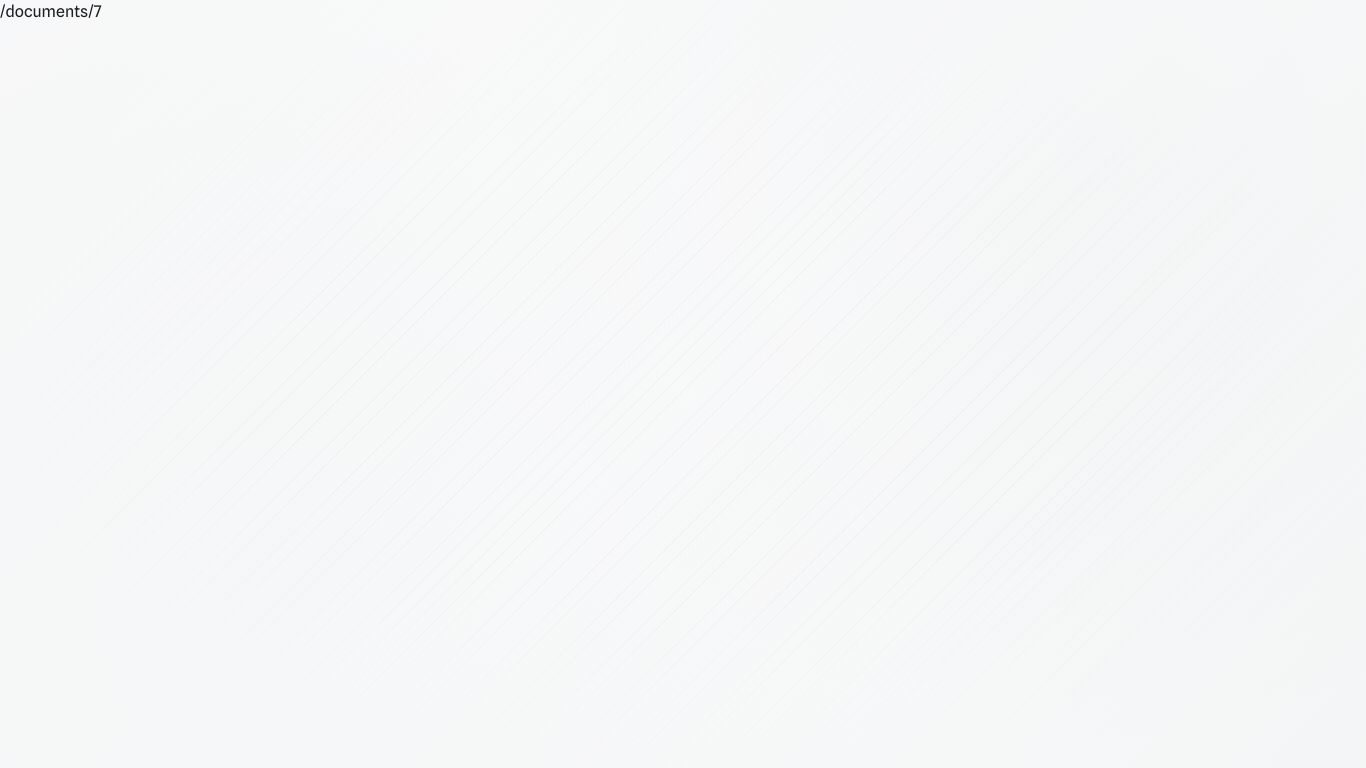
Test: #775 CommandPalette principal publication › does not toast a copy result after principal replacement while the owner stays current
The width and height of the screenshot is (1366, 768).
Step 1. Press k
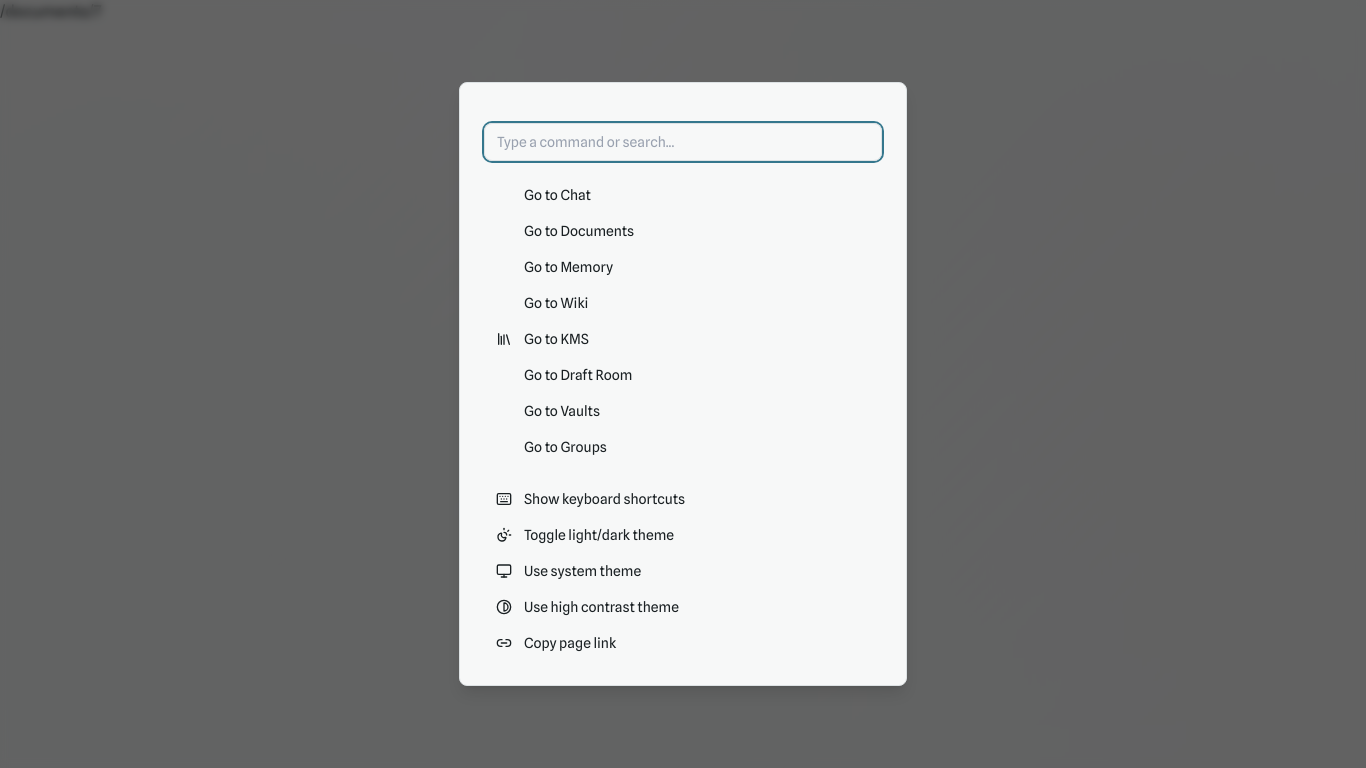
Step 2. Click the button "Copy page link" → (570, 643), box [484,625,882,661]
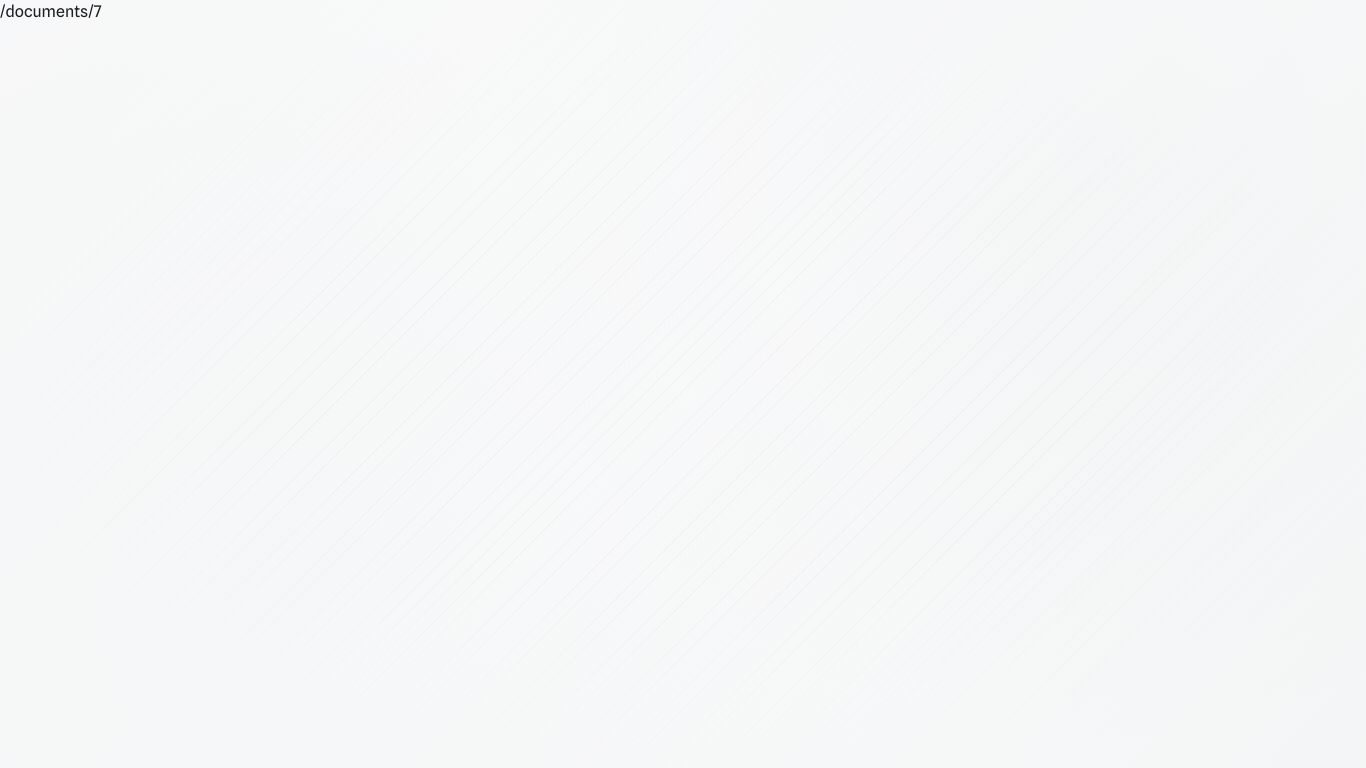
expect the dialog is gone: met
